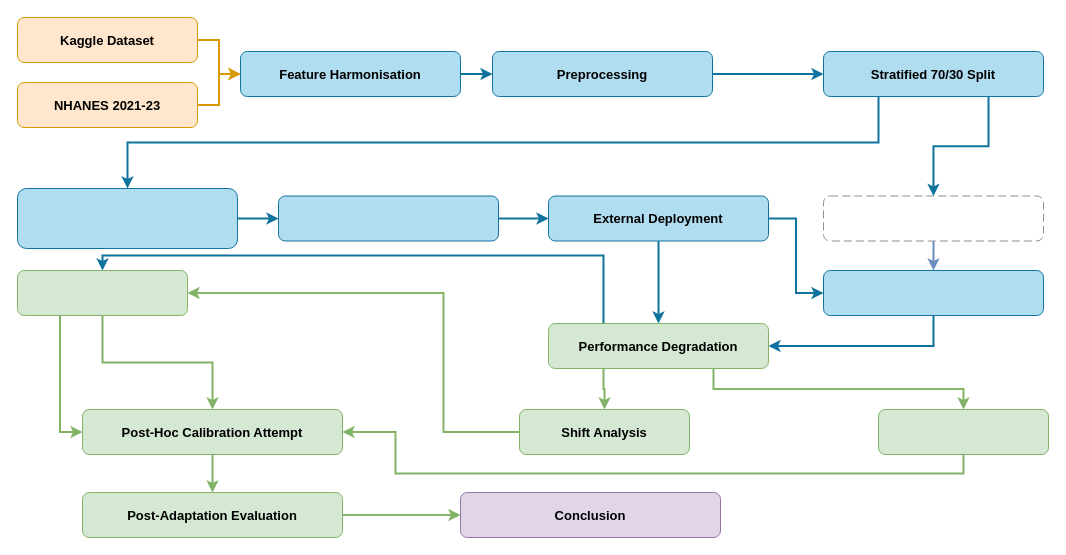
Image size: 1066x555. Some labels were removed from this diagram. The shapes that lost their labels are listed below. From the top down, each one's box as (x1, y1, x2, y2) in pixels, then its label:
(16, 188, 238, 248): Model Training (LR, Random Forest, XGBoost)
(278, 195, 498, 241): In-Domain Evaluation
(822, 195, 1044, 241): NHANES Held Out
(16, 270, 188, 316): Calibration Analysis
(822, 270, 1044, 316): Cross-Domain Evaluation
(878, 408, 1048, 454): Ablation Study
